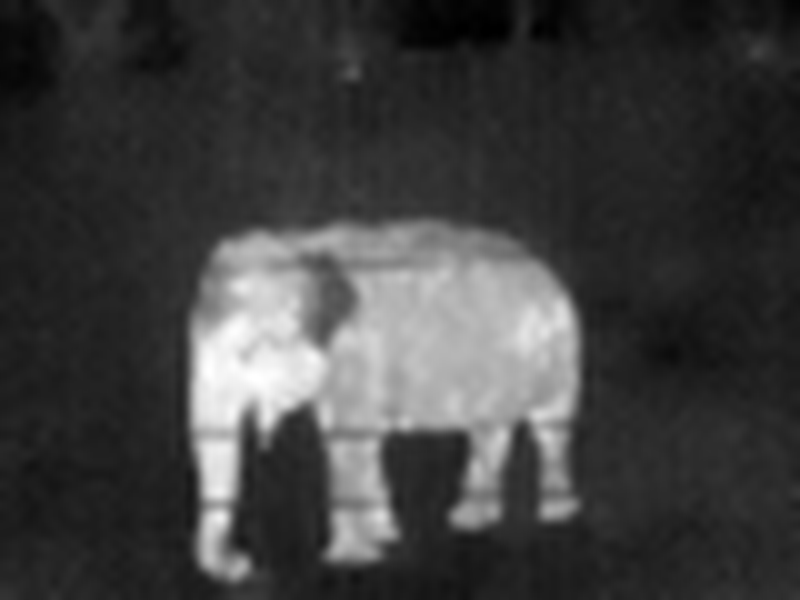elephant: (156, 229, 598, 556)
